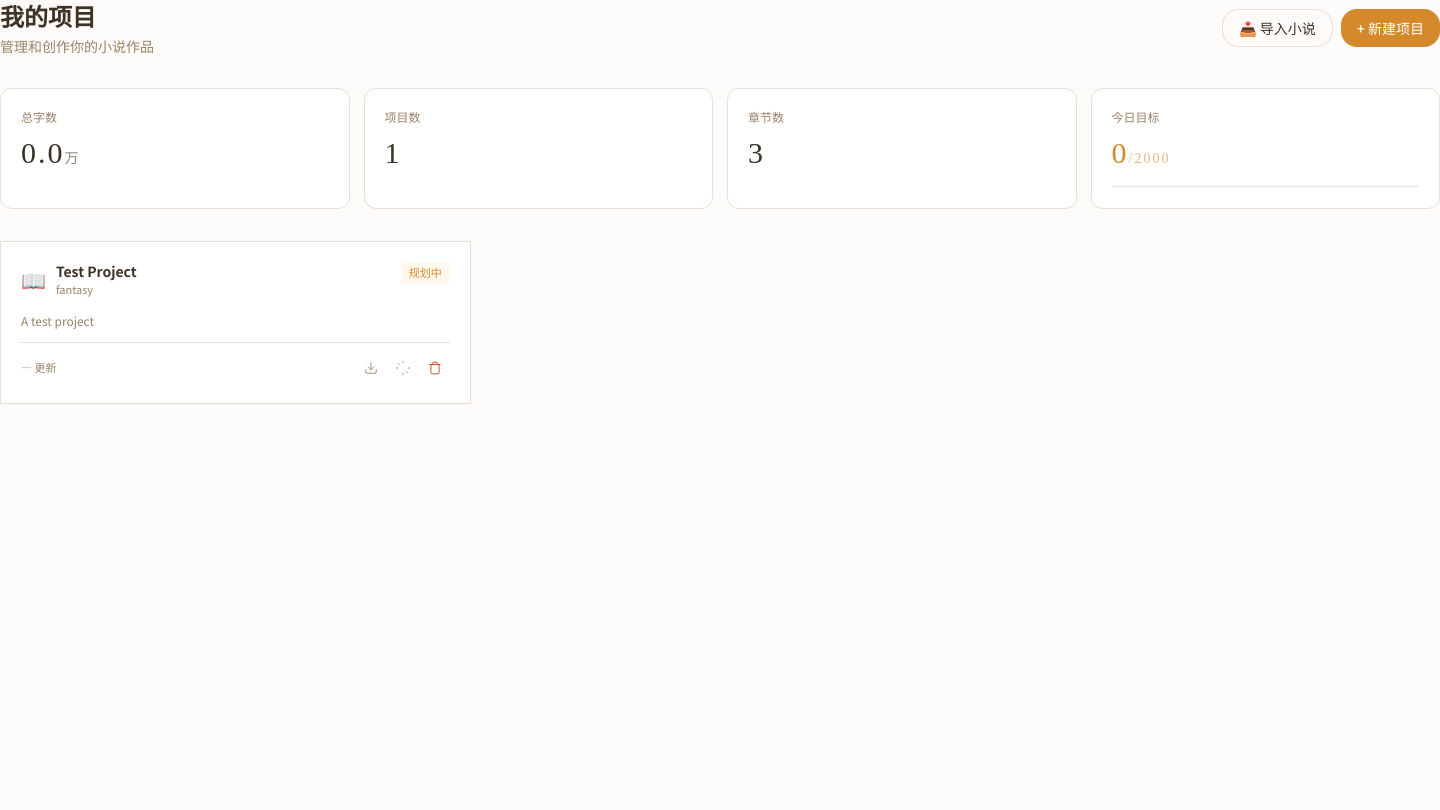
DashboardView › should open export dialog when export button clicked
expect the text "Test Project" is shown: met, box [56,262,137,280]
What coordinates should you click on to do the following:
click the button titled "导出"
I would click on:
 (371, 368)
Its box is [356,353,386,383].
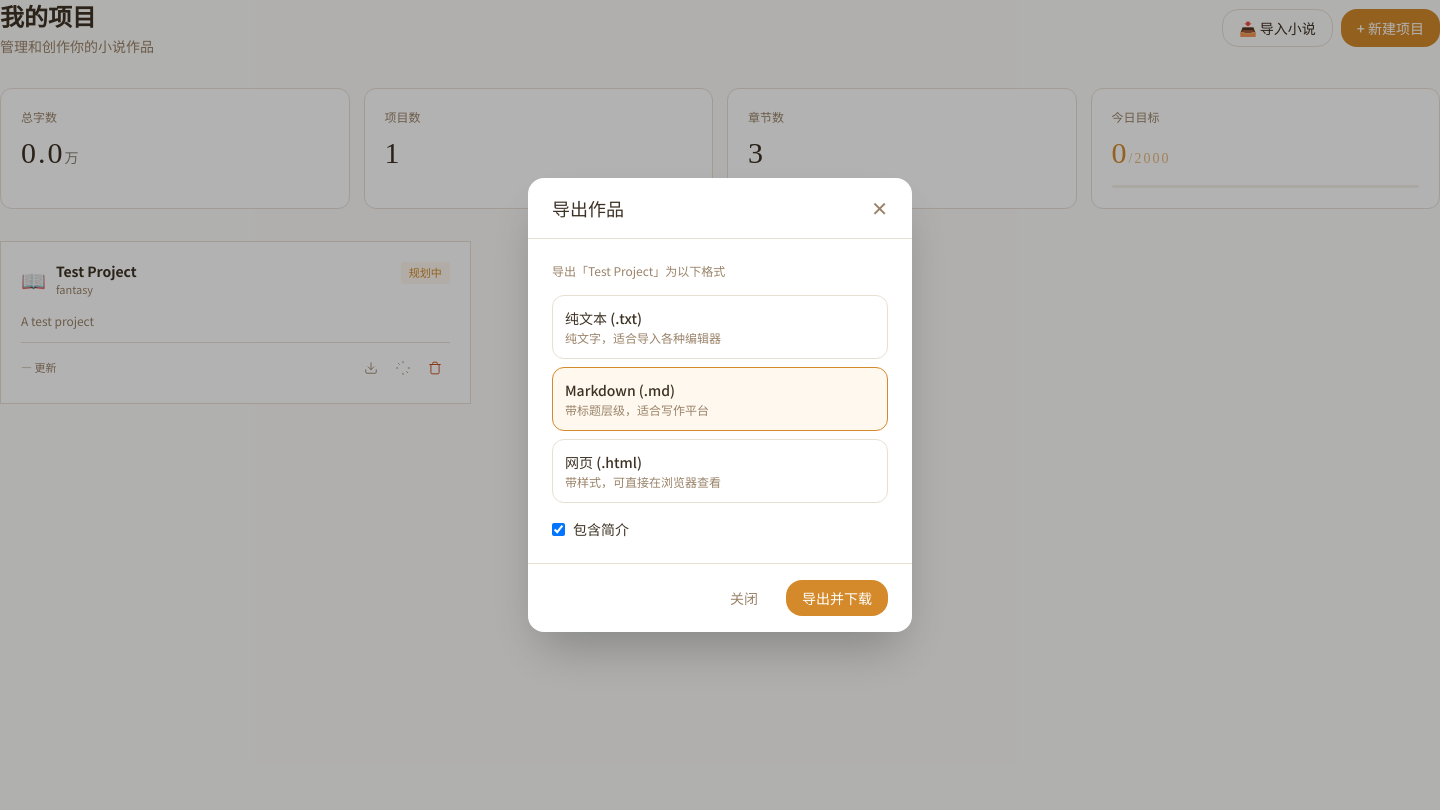
expect the heading "导出作品" is shown: met, box [552,194,624,222]
